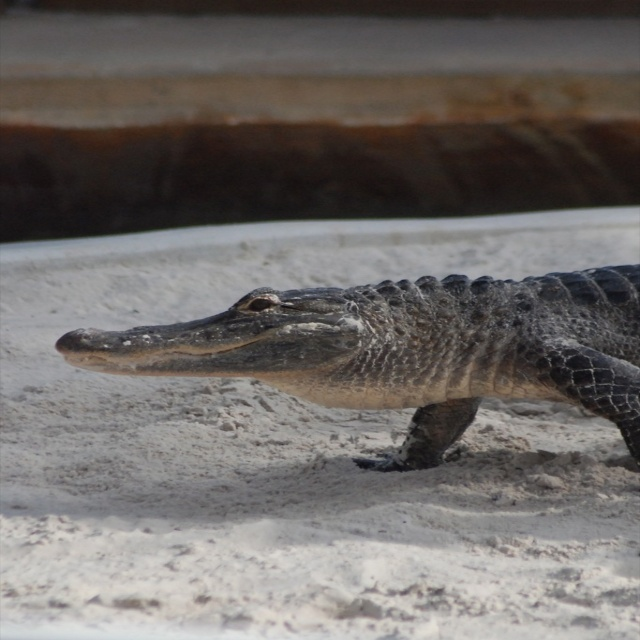Crocodile: (55, 263, 639, 473)
